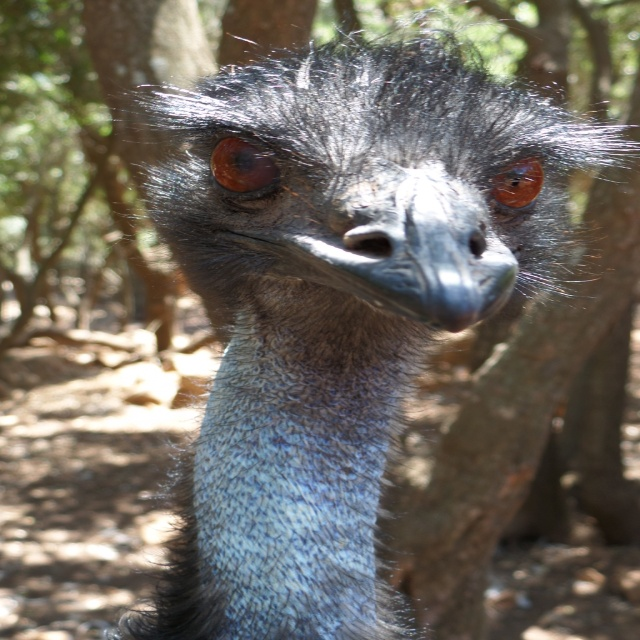Ostrich: (99, 0, 640, 640)
